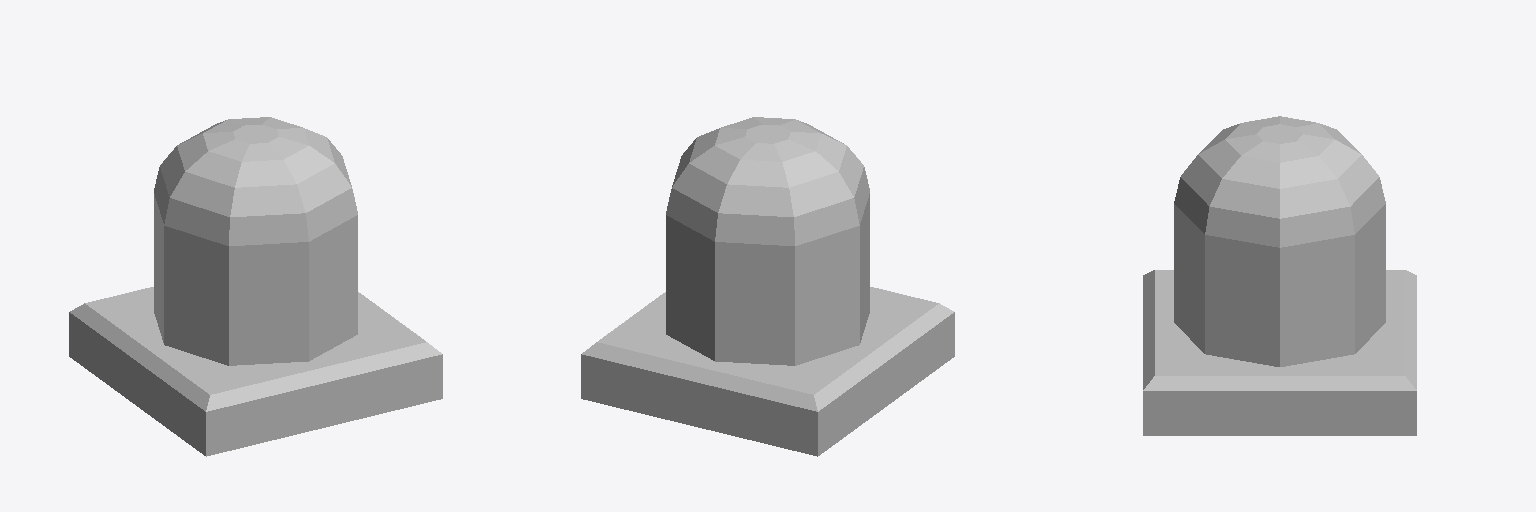
File: radar.obj
3 renders of one model, left to right at view 1: azimuth 30°, elevation 25°; view 2: azimuth 150°, elevation 25°; view 3: azimuth 270°, elevation 25°, orthographic.
Visible parts, largest first — view 1: Plane; view 2: Plane; view 3: Plane.
Boxes of the visible parts, <box> form: Plane: <box>69,117,442,456</box>; Plane: <box>581,117,954,456</box>; Plane: <box>1143,116,1416,435</box>.
Size of the model in its own units: 2 by 1.96 by 2.